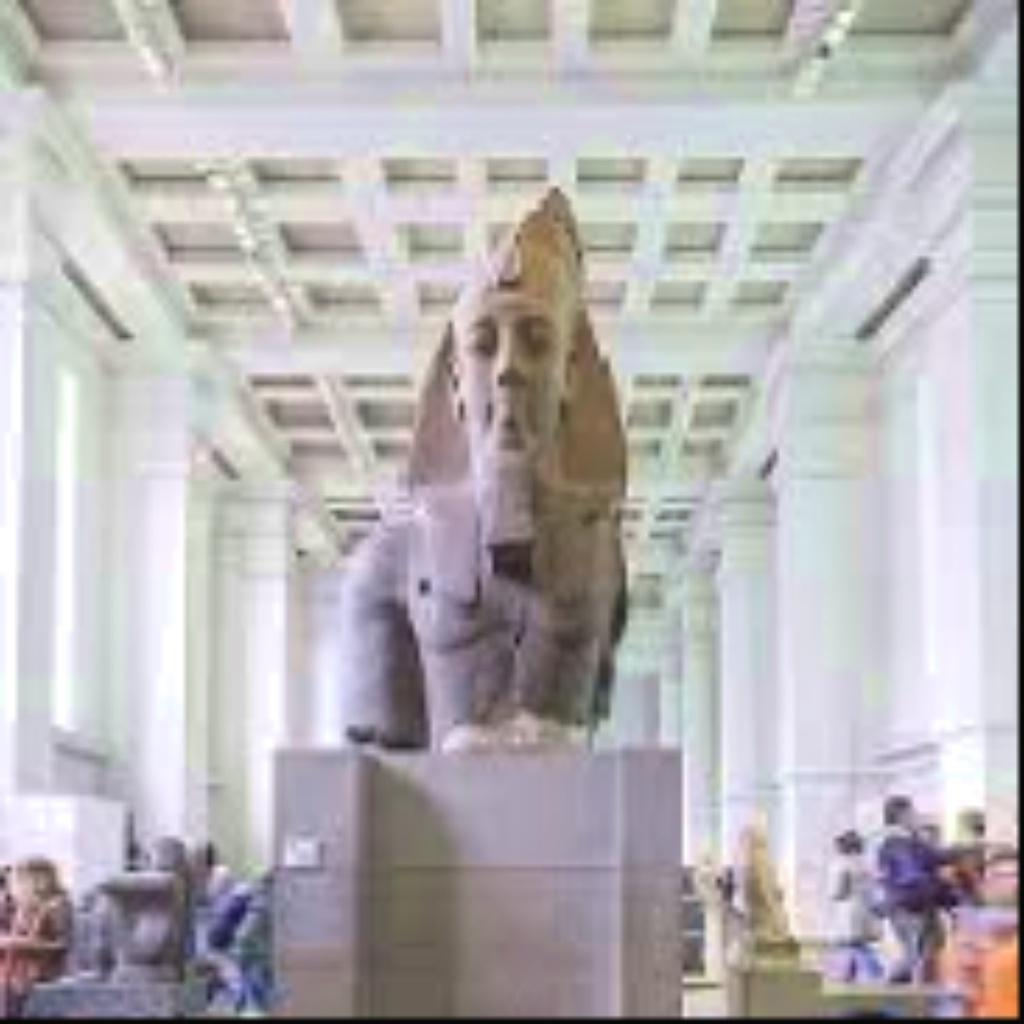bust of Ramesses II: (330, 181, 632, 749)
